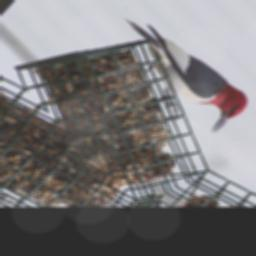Woodpecker: (95, 3, 256, 141)
